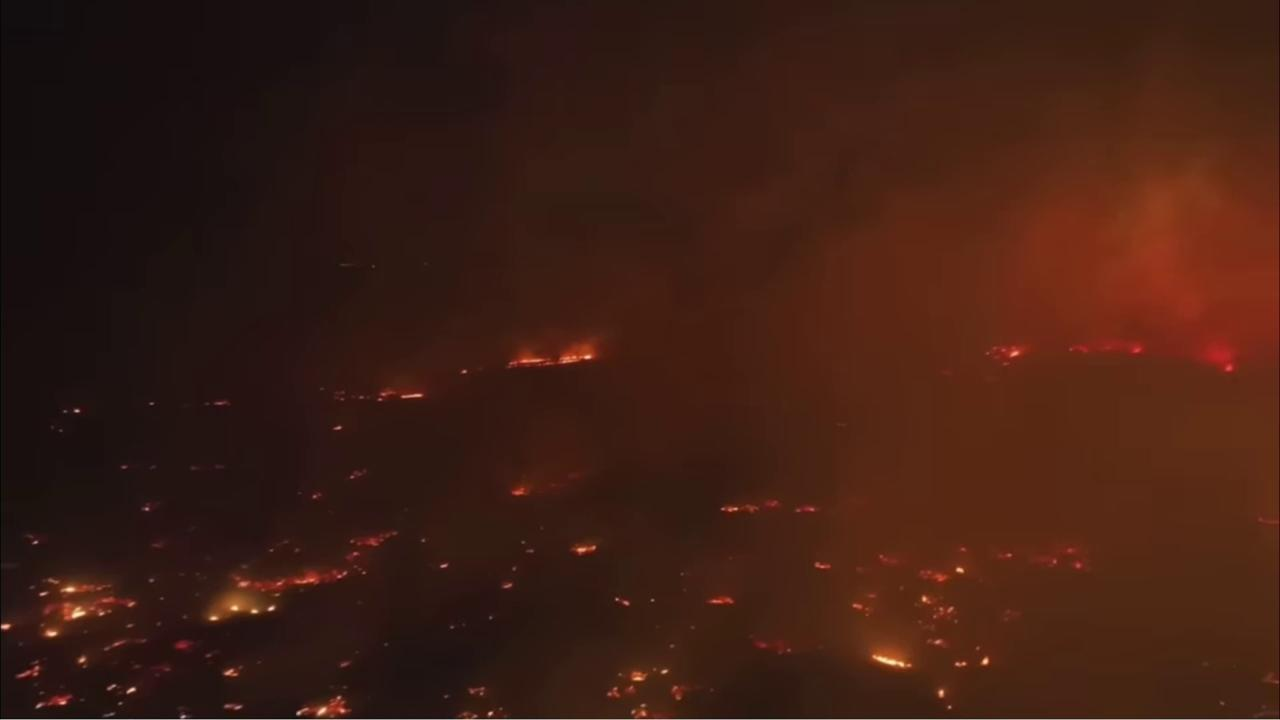fire: (224, 525, 404, 594), (27, 576, 140, 623), (912, 592, 960, 633), (503, 351, 594, 371), (293, 691, 355, 719), (1064, 337, 1146, 356), (983, 340, 1036, 368), (717, 494, 781, 517), (602, 669, 650, 699), (741, 631, 797, 656), (1041, 544, 1086, 572), (101, 633, 148, 655), (865, 650, 912, 671), (35, 689, 76, 710), (376, 387, 425, 403), (668, 680, 704, 701), (14, 658, 45, 682), (564, 540, 600, 557), (916, 567, 950, 585), (702, 593, 736, 609), (627, 704, 655, 719), (220, 663, 242, 680), (72, 650, 91, 669), (487, 704, 510, 719), (877, 549, 900, 564), (173, 637, 197, 651), (466, 683, 487, 699), (201, 398, 231, 409), (611, 593, 632, 608), (793, 504, 819, 516), (509, 484, 530, 497), (349, 467, 368, 481), (222, 700, 244, 712), (39, 628, 62, 639), (453, 710, 480, 719), (813, 560, 833, 571), (850, 597, 864, 612), (309, 488, 324, 502), (923, 636, 946, 645), (979, 654, 992, 668), (104, 682, 119, 694), (937, 686, 949, 701), (123, 686, 141, 695), (951, 659, 969, 668), (1222, 361, 1235, 373), (228, 603, 243, 613), (0, 621, 13, 632), (139, 501, 152, 512), (266, 603, 280, 613), (206, 613, 221, 622), (501, 581, 515, 590), (438, 561, 452, 570), (1000, 550, 1014, 559), (28, 538, 43, 546), (955, 564, 966, 574), (332, 424, 346, 431), (249, 607, 259, 616), (72, 407, 82, 414)
smoke: (0, 0, 1280, 720)
